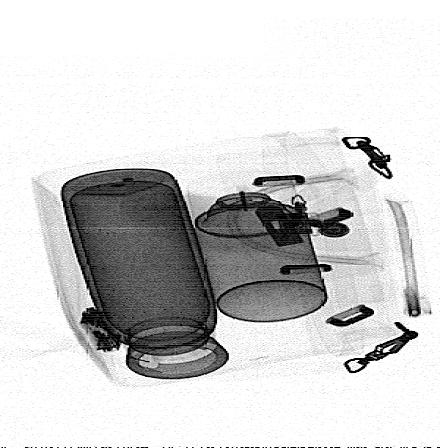Sprayer: (185, 169, 328, 323)
